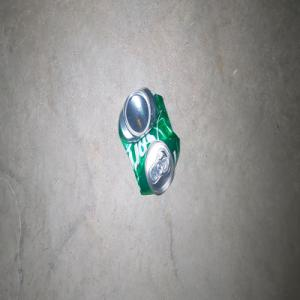SodaCan: (118, 86, 179, 195)
